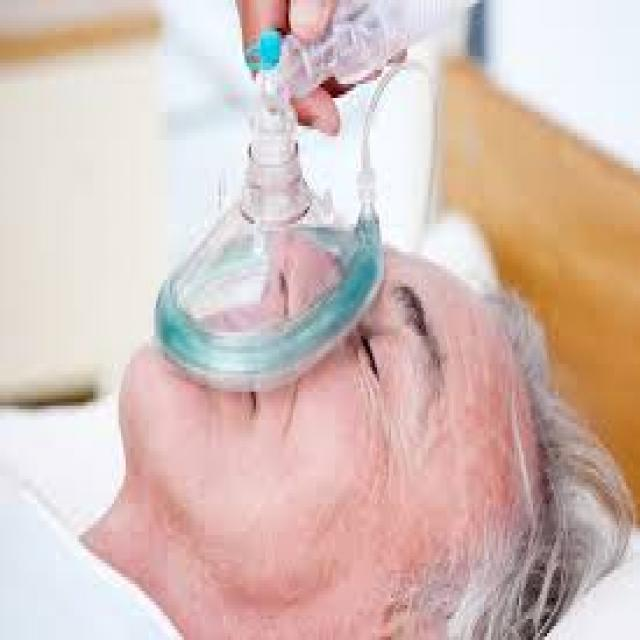oxygen_mask: (134, 91, 405, 353)
